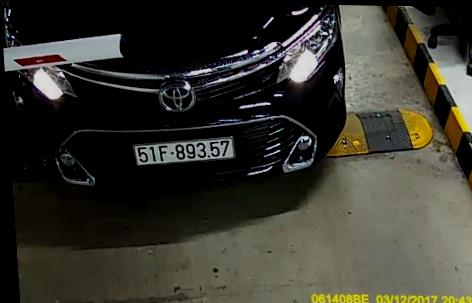License_Plate: (129, 138, 241, 165)
